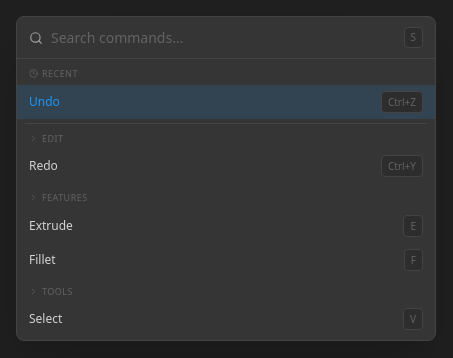
CommandPalette › shows no matching commands when search has no results
The image size is (453, 358).
Type "zzzznothing" into the field with placeholder "Search commands…" at (223, 38), box x1=51 y1=28 x2=396 y2=48
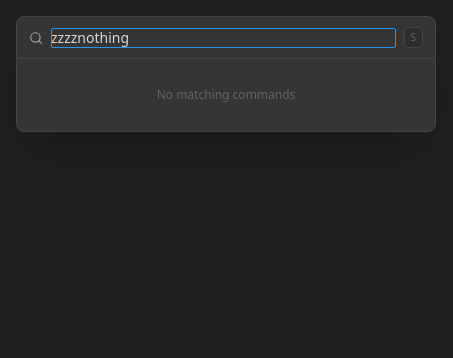
Expected: the text "No matching commands" is shown, x1=157 y1=86 x2=295 y2=103
